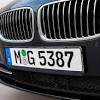3: (46, 50, 55, 67)
5: (38, 50, 47, 66)
7: (64, 51, 73, 69)
8: (56, 51, 64, 67)
G: (27, 50, 35, 65)
M: (14, 49, 21, 64)
